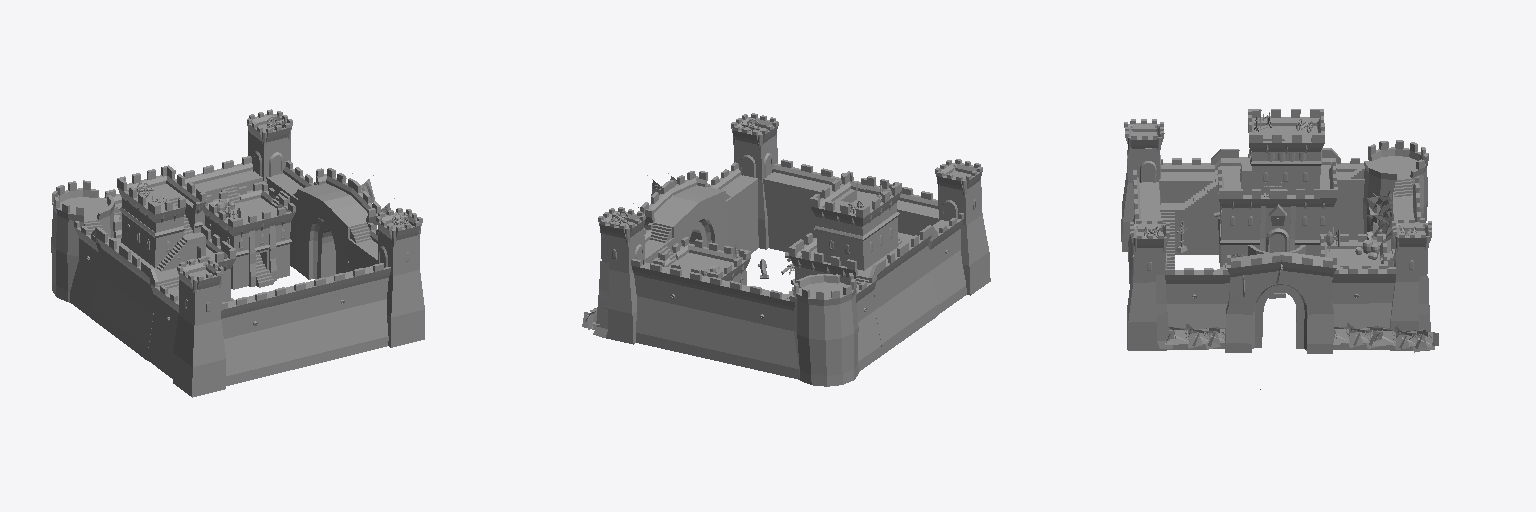
The model's file is castle.obj.
The picture shows the model from 3 angles: view 1: azimuth 30°, elevation 25°; view 2: azimuth 150°, elevation 25°; view 3: azimuth 270°, elevation 25°; orthographic projection.
Visible parts, largest first — view 1: DrawCall44, DrawCall43; view 2: DrawCall44, DrawCall43, DrawCall51; view 3: DrawCall44, DrawCall43, DrawCall28, DrawCall26, DrawCall54, DrawCall27, DrawCall51.
Part boxes in pixels (bbox=[...]): DrawCall44: bbox=[51, 109, 424, 397]; DrawCall43: bbox=[84, 151, 408, 325]; DrawCall44: bbox=[598, 113, 990, 386]; DrawCall43: bbox=[612, 153, 975, 318]; DrawCall51: bbox=[593, 261, 608, 337]; DrawCall44: bbox=[1121, 109, 1431, 353]; DrawCall43: bbox=[1127, 145, 1413, 298]; DrawCall28: bbox=[1371, 326, 1438, 352]; DrawCall26: bbox=[1165, 324, 1225, 349]; DrawCall54: bbox=[1156, 275, 1172, 348]; DrawCall27: bbox=[1333, 323, 1389, 348]; DrawCall51: bbox=[1419, 276, 1434, 349].
Bounding box in the file's own units: 2610 × 1589 × 2508.